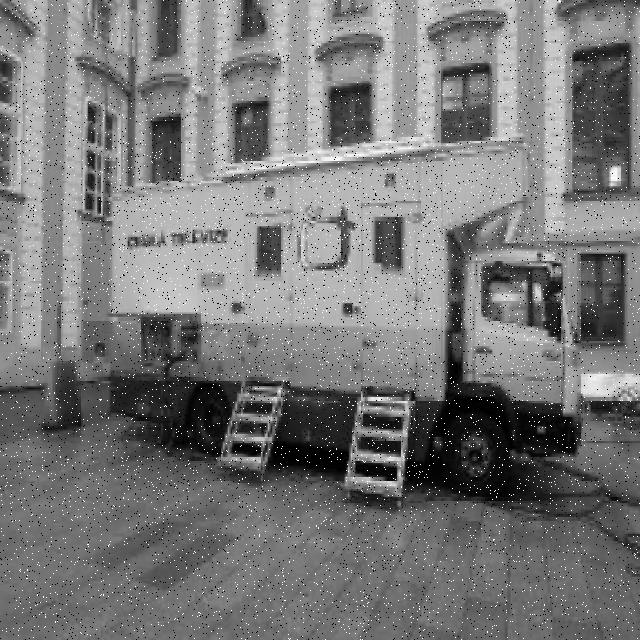Box Truck: (108, 139, 579, 495)
